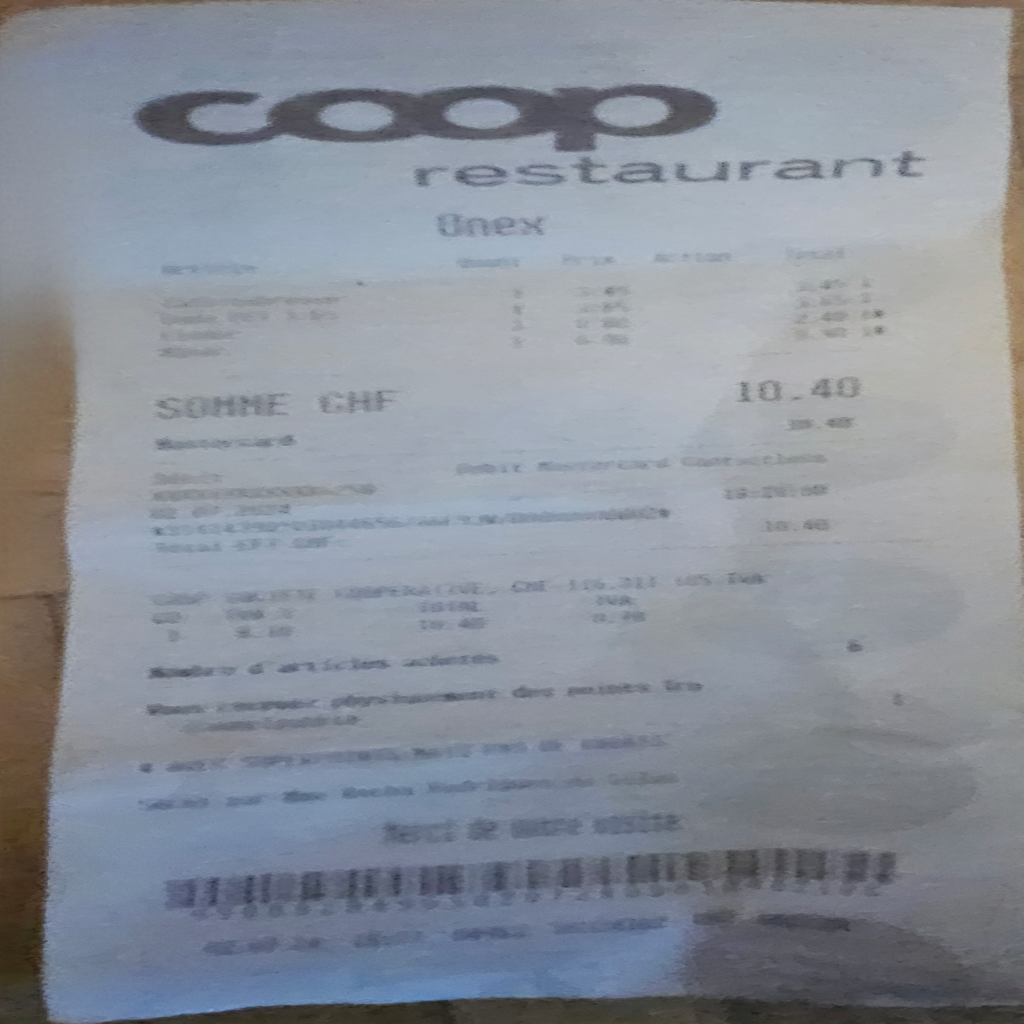recipt: (40, 8, 1011, 1018)
